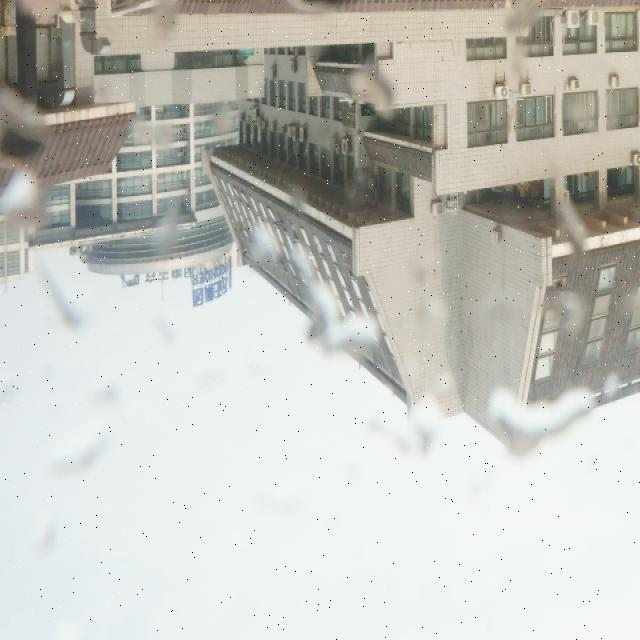raindrop: (249, 218, 382, 358), (482, 378, 594, 446), (355, 386, 451, 458), (28, 416, 110, 484), (24, 246, 80, 336), (65, 360, 142, 421), (537, 268, 585, 348), (145, 186, 183, 264), (418, 277, 462, 341), (342, 66, 393, 120), (26, 488, 66, 556), (132, 108, 178, 162), (503, 0, 572, 35), (558, 95, 640, 122), (0, 170, 41, 224), (144, 297, 176, 364), (472, 276, 514, 327), (492, 46, 530, 100), (554, 195, 588, 253), (143, 6, 180, 54), (602, 364, 624, 402), (618, 282, 640, 316)
